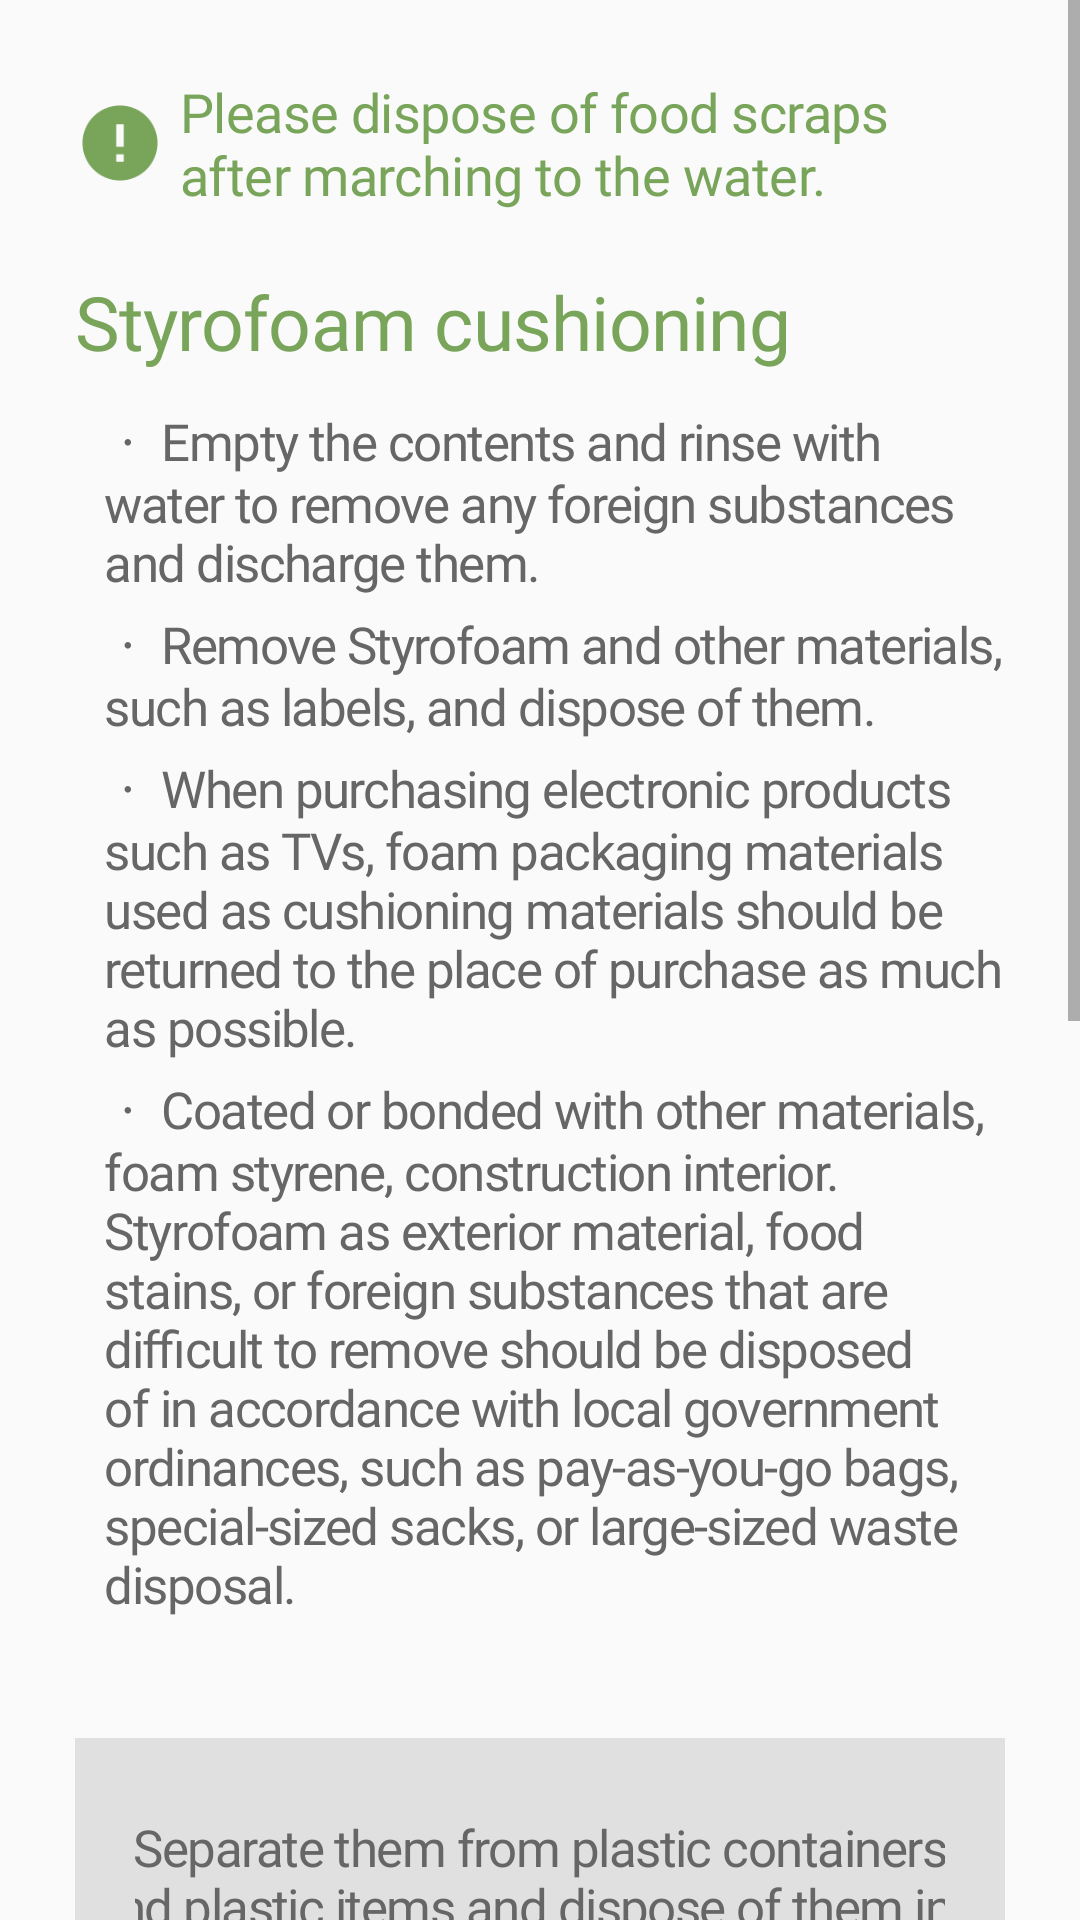

Named icons in this screenshot (1080 x 1920) and their centers, [x,y]:
description error: [120,143]
